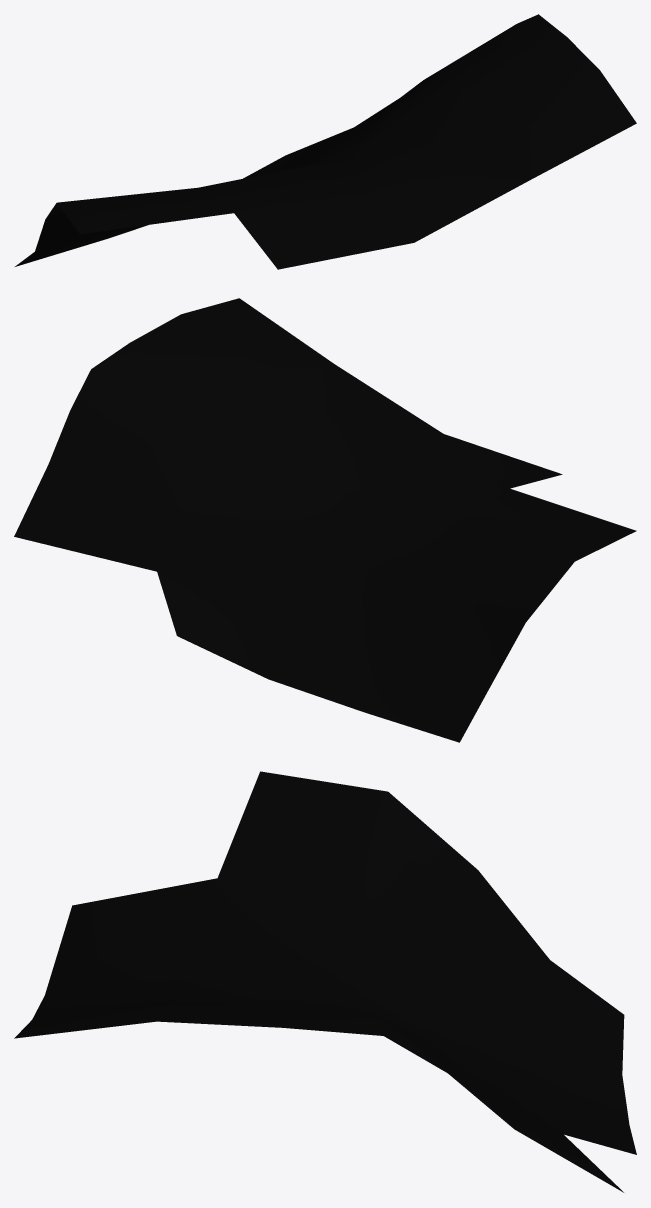
File: HTOWN01_TREESHADOWS11.fbx
3 renders of one model, top to bottom at view 1: azimuth 30°, elevation 25°; view 2: azimuth 150°, elevation 25°; view 3: azimuth 270°, elevation 25°, orthographic. The views are drawn at different scales.
Parts seen in each view (by area): view 1: HTOWN01_TREESHADOWS11; view 2: HTOWN01_TREESHADOWS11; view 3: HTOWN01_TREESHADOWS11.
Part boxes in pixels (x1,y1,x2,y2): HTOWN01_TREESHADOWS11: (15, 14, 636, 269); HTOWN01_TREESHADOWS11: (14, 298, 636, 742); HTOWN01_TREESHADOWS11: (14, 771, 636, 1192).
Bounding box in the file's own units: 220562 × 86885 × 158034.
1 material, 1 textured.
